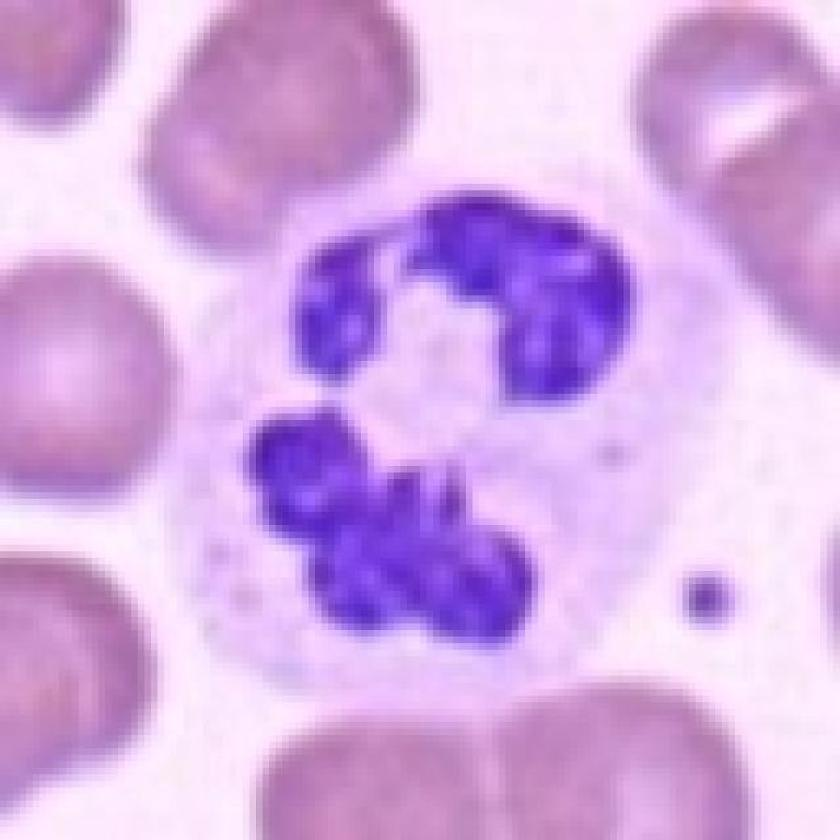neutrophil: (151, 164, 672, 669)
